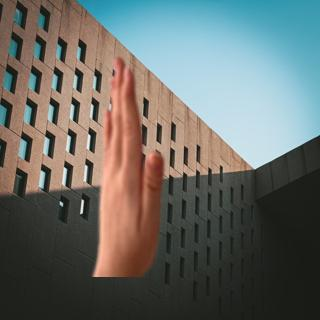Right: (86, 42, 174, 255)
